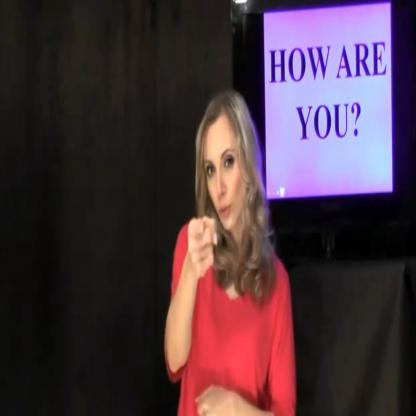HowAreYou: (179, 204, 261, 416)
